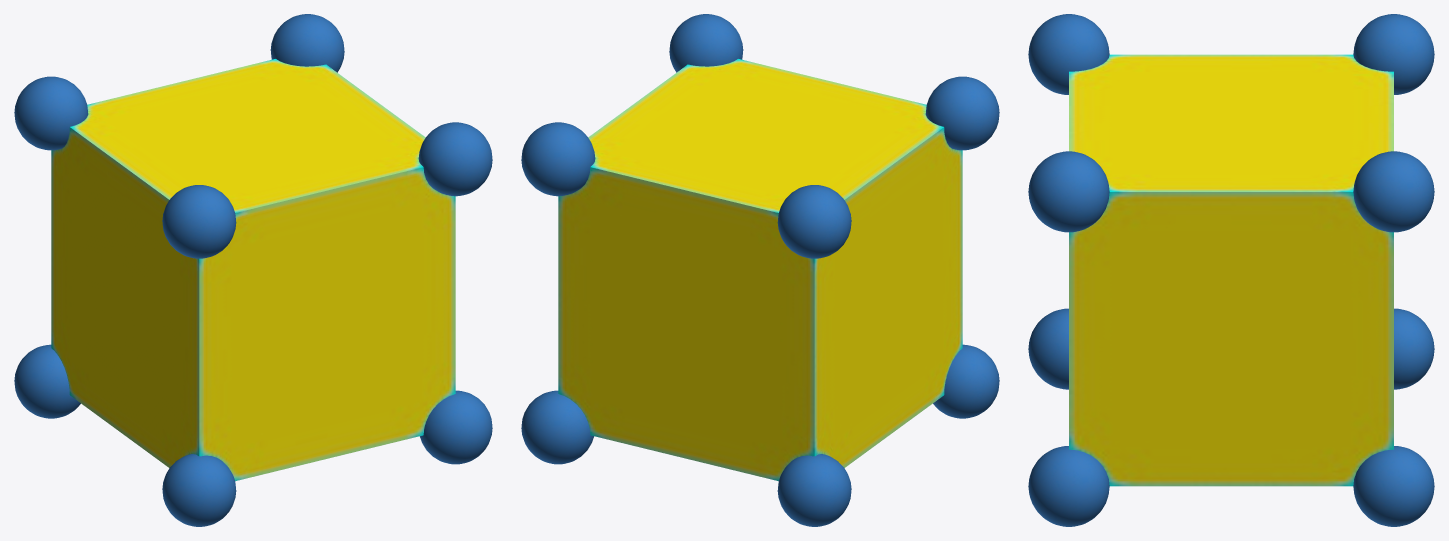
The picture shows the model from 3 angles, left to right: view 1: azimuth 30°, elevation 25°; view 2: azimuth 150°, elevation 25°; view 3: azimuth 270°, elevation 25°; orthographic projection. The views are drawn at different scales.
Parts seen in each view (by area): view 1: Cubique_simple; view 2: Cubique_simple; view 3: Cubique_simple.
Boxes of the visible parts, <box> form: Cubique_simple: <box>14,14,492,526</box>; Cubique_simple: <box>521,14,999,526</box>; Cubique_simple: <box>1028,14,1434,526</box>.
Size of the model in its own units: 0.5124 by 0.5124 by 0.5124.
Materials: 2 (2 with a texture image).
